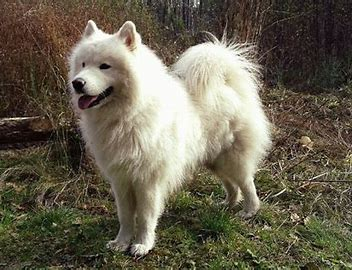dog: (54, 20, 287, 256)
